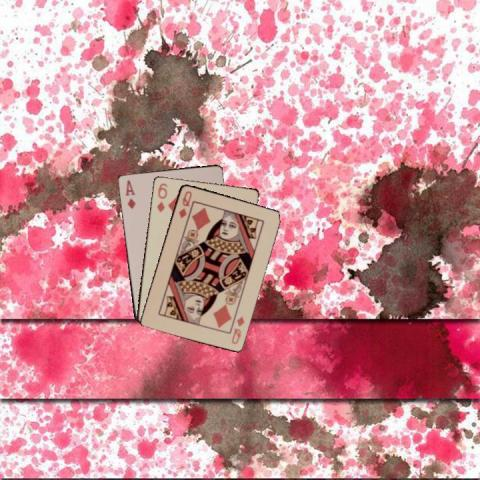6d: (153, 180, 169, 213)
Ad: (122, 177, 137, 210)
Qd: (176, 188, 194, 220), (228, 313, 246, 345)
